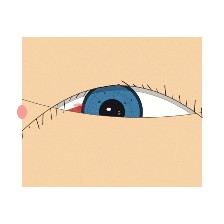hemorrhage_spot: (46, 85, 137, 157)
